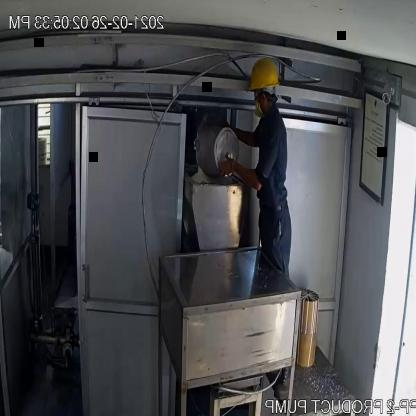helmet: (242, 50, 284, 106)
